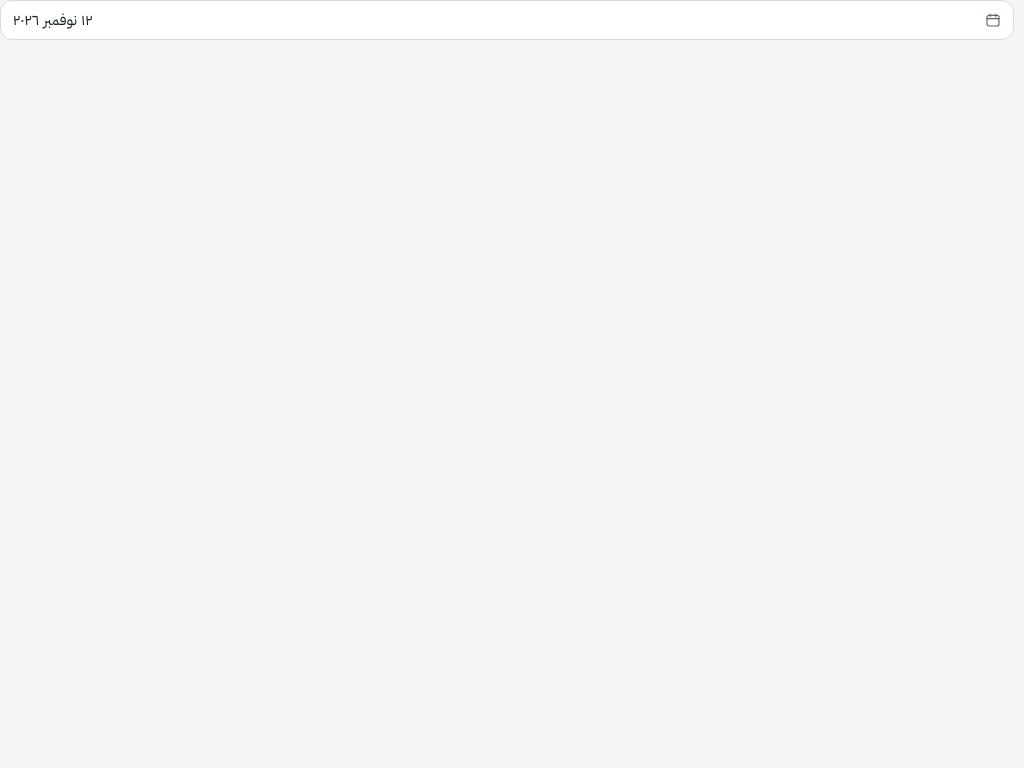
Test: NuqtaDatePicker › labels the panel and chrome in Arabic when isAr
Click the dropdown named "Pick date" at (60, 20), box [0,0,1014,40]
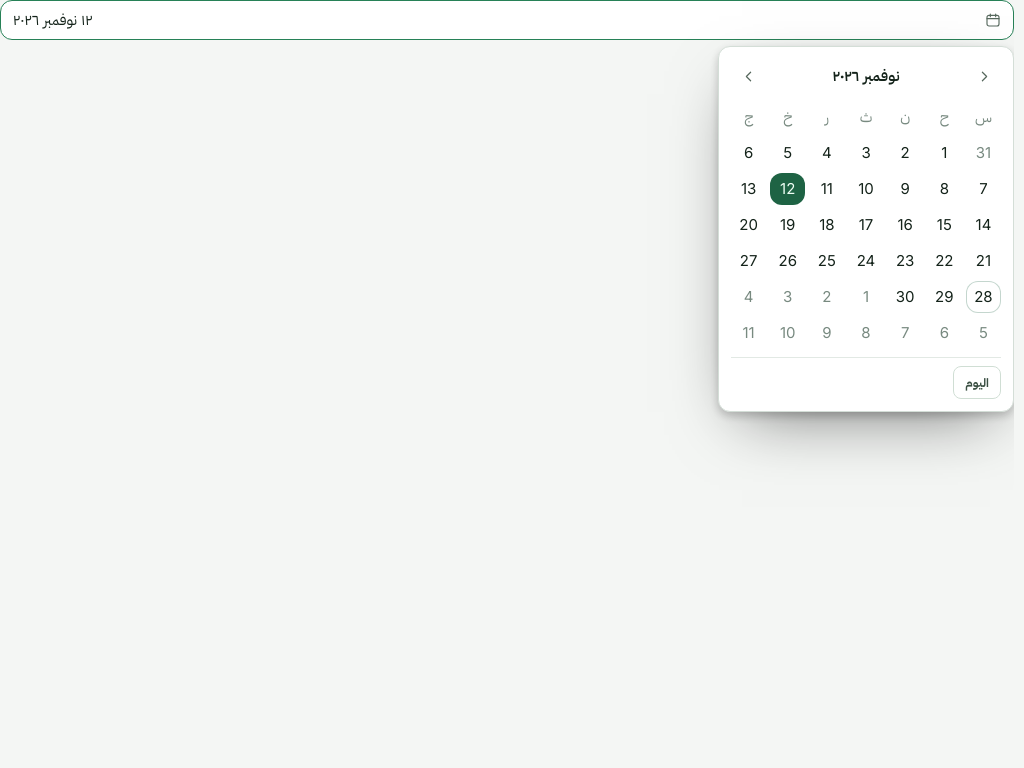
Result: the button "اليوم" is shown at [953,366,1001,399]
